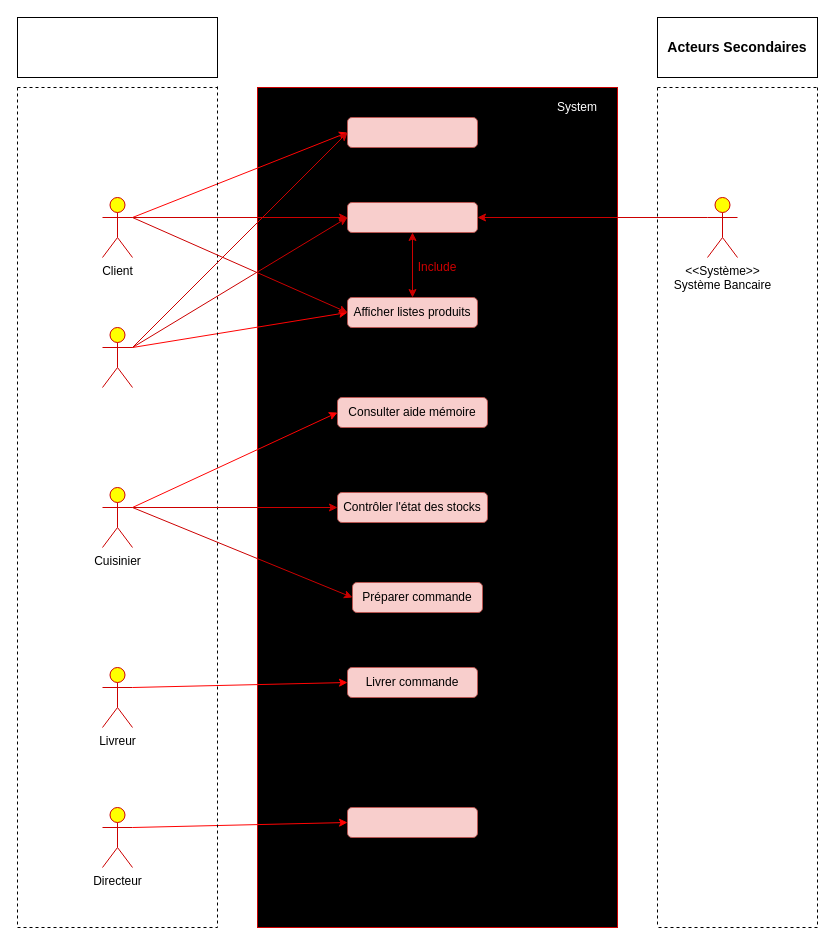
This 836x946 diagram has some shape labels left out. The shapes that lost their labels are listed below. From the top down, each one's centre as x and y in pixels, then its label:
At point (117, 47): "Acteur Principaux".
At point (412, 132): "Consulter commande".
At point (412, 217): "Commander".
At point (117, 357): "Vendeur".
At point (412, 822): "Gestion/Administration".
